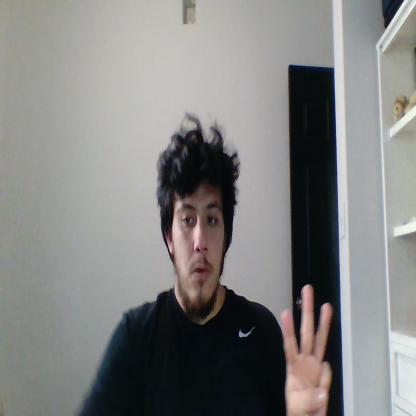W: (280, 282, 332, 416)
